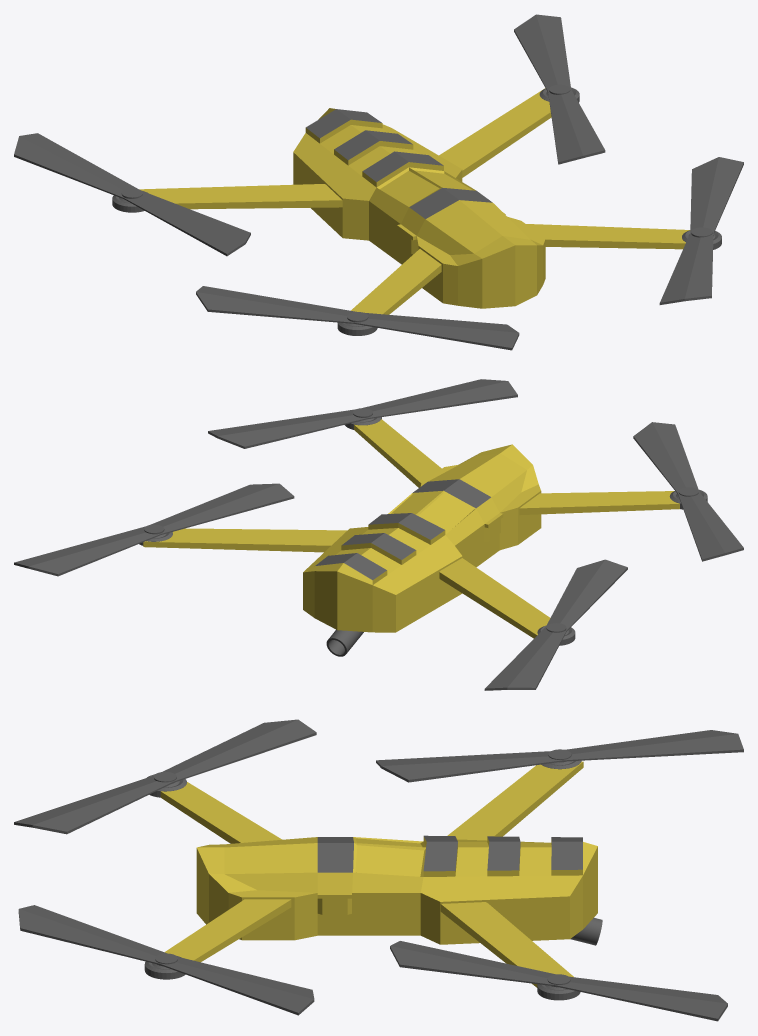
The model's file is drone yellow.fbx.
The picture shows the model from 3 angles, top to bottom: view 1: azimuth 30°, elevation 25°; view 2: azimuth 150°, elevation 25°; view 3: azimuth 270°, elevation 25°; orthographic projection. The views are drawn at different scales.
Visible parts, largest first — view 1: base, blade 2, blade 4, blade 3, blade 1; view 2: base, blade 1, blade 3, blade 4, blade 2; view 3: base, blade 4, blade 3, blade 2, blade 1.
Part boxes in pixels (left/top/right/bottom): base: left=112, top=84, right=721, bottom=335; blade 2: left=196, top=286, right=519, bottom=350; blade 4: left=14, top=133, right=250, bottom=256; blade 3: left=514, top=14, right=605, bottom=164; blade 1: left=659, top=157, right=743, bottom=304; base: left=139, top=408, right=707, bottom=656; blade 1: left=208, top=379, right=517, bottom=448; blade 3: left=14, top=483, right=294, bottom=576; blade 4: left=484, top=559, right=627, bottom=690; blade 2: left=633, top=422, right=743, bottom=561; base: left=144, top=749, right=602, bottom=1000; blade 4: left=376, top=730, right=743, bottom=782; blade 3: left=390, top=941, right=727, bottom=1021; blade 2: left=14, top=719, right=316, bottom=834; blade 1: left=18, top=905, right=314, bottom=1015.
Size of the model in its own units: 1312 by 211 by 1363.
